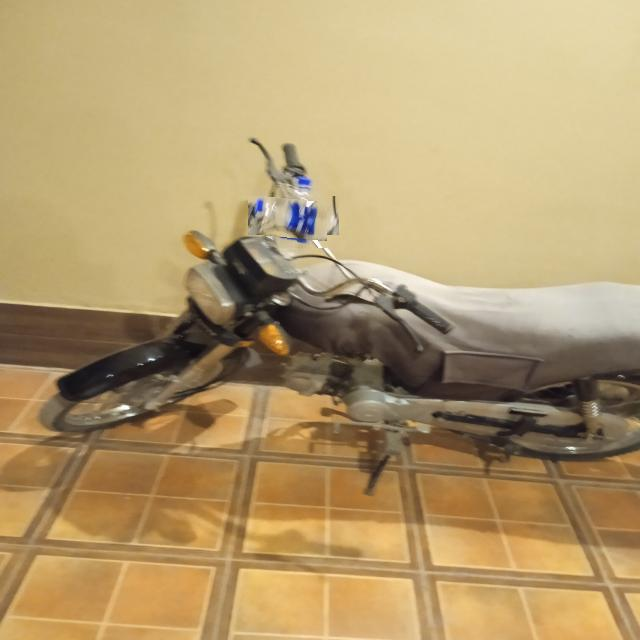Plastic: (261, 183, 327, 248)
